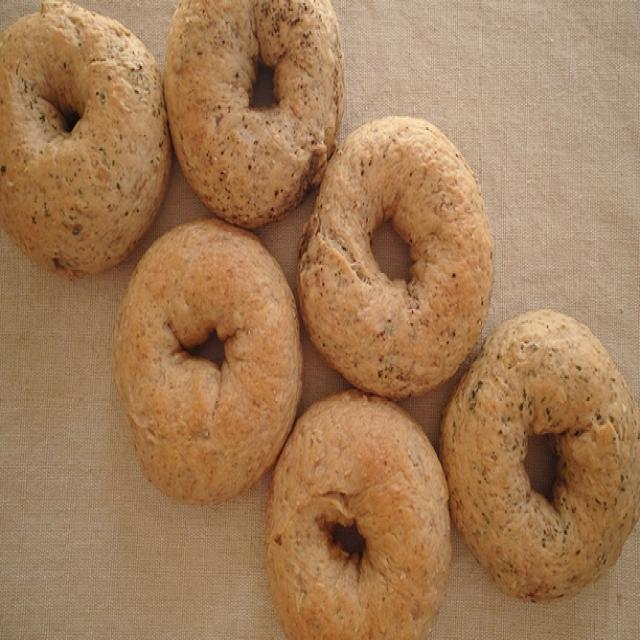面包点心: (10, 4, 628, 634)
